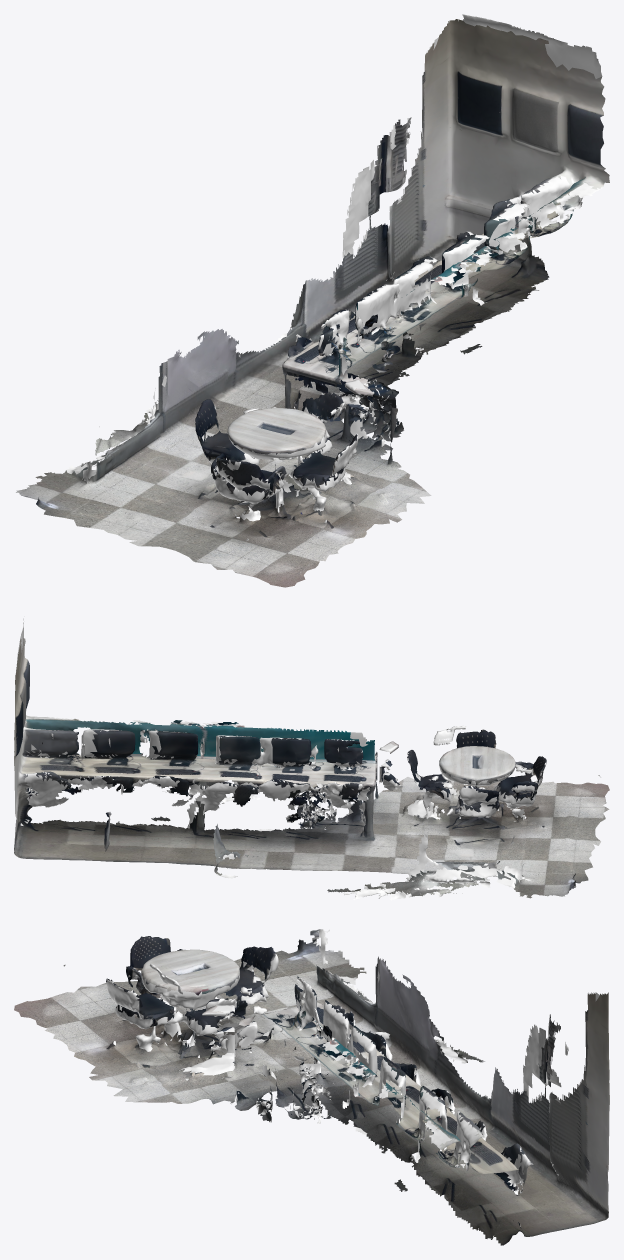
The picture shows the model from 3 angles, top to bottom: view 1: azimuth 30°, elevation 25°; view 2: azimuth 150°, elevation 25°; view 3: azimuth 270°, elevation 25°; orthographic projection. The views are drawn at different scales.
Parts seen in each view (by area): view 1: 4, 5, 2, 0, 3, 1; view 2: 4, 2, 0, 5, 3, 1; view 3: 4, 2, 5, 0, 3, 1.
Boxes of the visible parts, bbox=[...] form: 4: bbox=[204, 19, 609, 457]; 5: bbox=[16, 337, 398, 579]; 2: bbox=[104, 240, 511, 527]; 0: bbox=[66, 14, 602, 540]; 3: bbox=[192, 232, 510, 527]; 1: bbox=[262, 408, 356, 587]; 4: bbox=[14, 638, 498, 860]; 2: bbox=[82, 722, 546, 894]; 0: bbox=[15, 618, 600, 900]; 5: bbox=[253, 733, 609, 898]; 3: bbox=[139, 720, 546, 871]; 1: bbox=[420, 732, 609, 794]; 4: bbox=[188, 963, 609, 1245]; 2: bbox=[102, 941, 557, 1204]; 5: bbox=[30, 929, 443, 1119]; 0: bbox=[63, 929, 599, 1226]; 3: bbox=[89, 946, 441, 1121]; 1: bbox=[14, 975, 235, 1027].
Bounding box in the file's own units: 6.95 × 2.65 × 5.51.
Materials: 6 (5 with a texture image).
